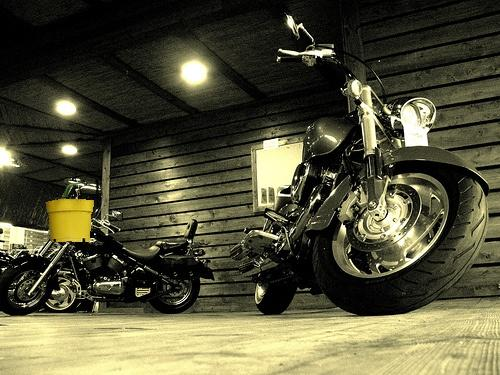tampered: (46, 184, 94, 242)
